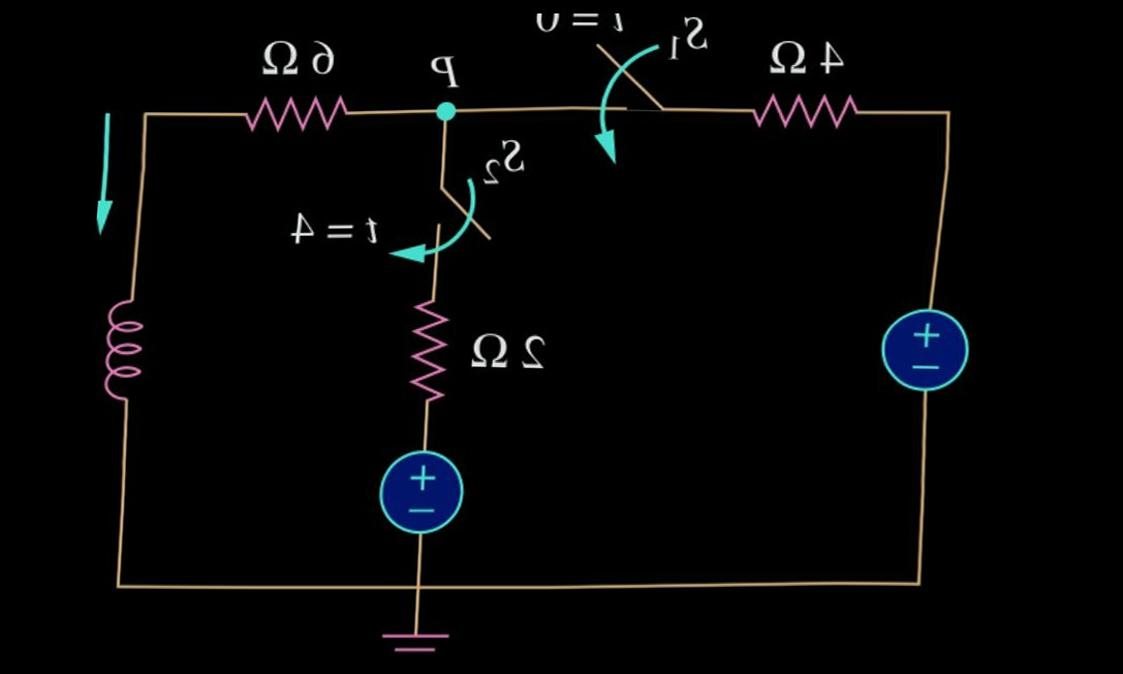Battery: (850, 274, 984, 421), (341, 439, 502, 555)
